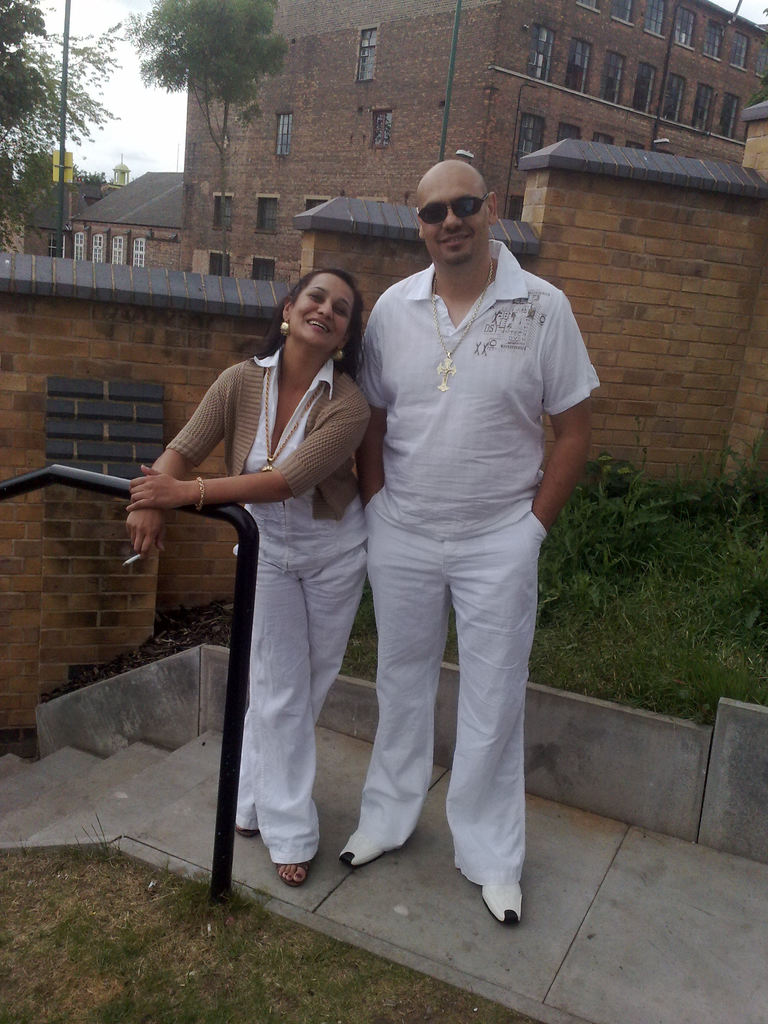Footwear: (479, 882, 524, 924), (339, 832, 384, 872), (277, 856, 307, 883)
